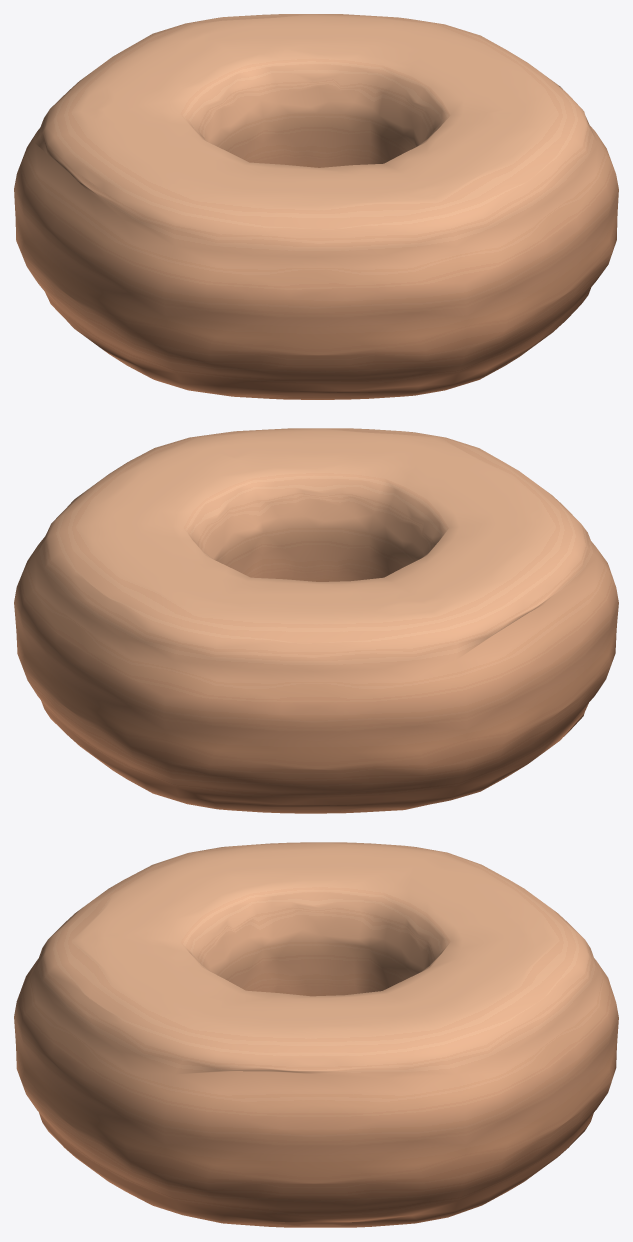
Rendered from donut.glb.
The picture shows the model from 3 angles, top to bottom: view 1: azimuth 30°, elevation 25°; view 2: azimuth 150°, elevation 25°; view 3: azimuth 270°, elevation 25°; orthographic projection.
Size of the model in its own units: 0.8463 by 0.3141 by 0.8859.
Materials: 1 (1 with a texture image).
